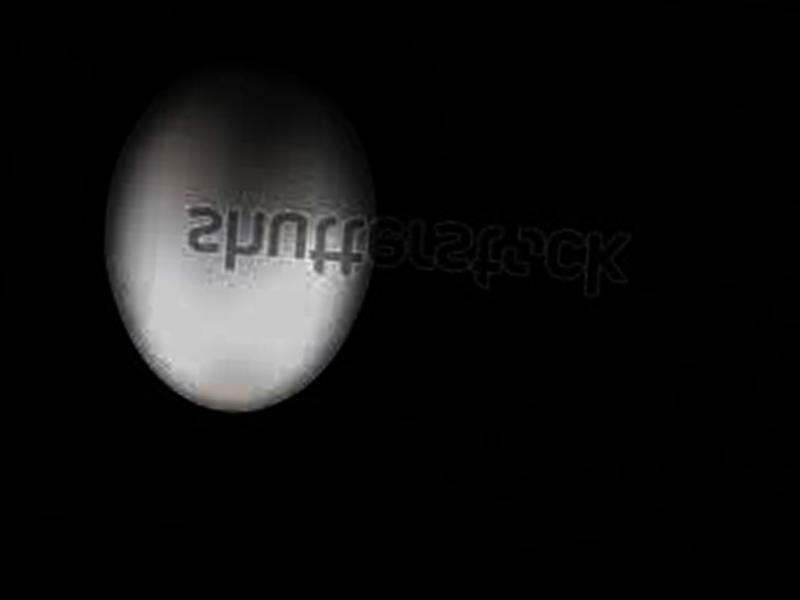Eggs: (90, 52, 381, 425)
